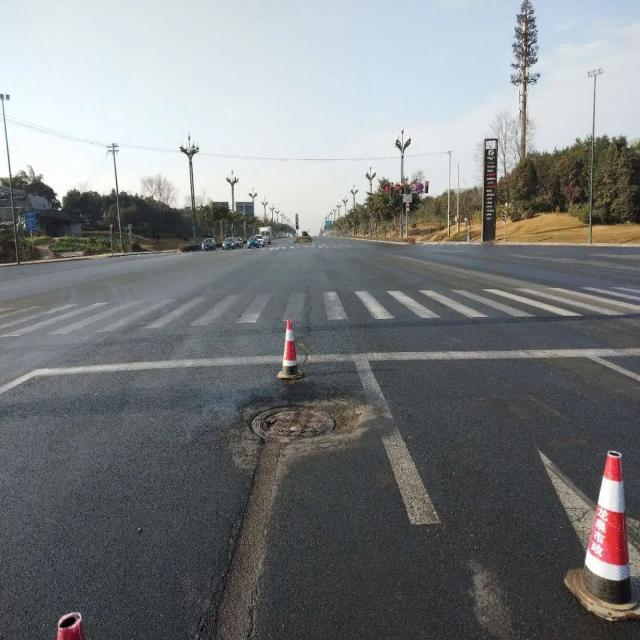Pothole: (203, 441, 282, 634), (230, 393, 366, 451)
